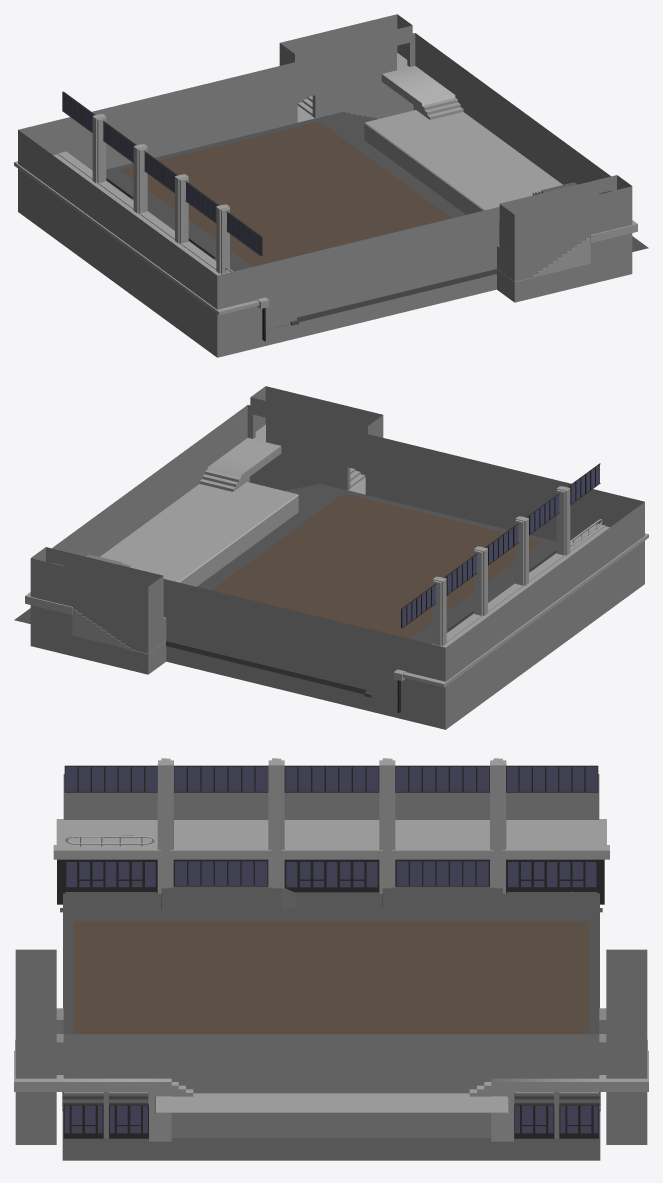
Rendered from RefInicial.fbx.
3 views of the same model, one above another, from view 1: azimuth 30°, elevation 25°; view 2: azimuth 150°, elevation 25°; view 3: azimuth 270°, elevation 25° (orthographic). The views are drawn at different scales.
Visible parts, largest first — view 1: Pared1, Piso1, Escenario, PisoAlt (×2), Piso2do, ColumnaH, Pilar3, Pilar4, EscalerasBaj, Pilar2, Pilar1, Ventana_1 (+5 smaller); view 2: Pared1, Piso1, Escenario, PisoAlt (×2), Piso2do, ColumnaH, Pilar1, Pilar4, EscalerasBaj, Pilar2, Pilar3, Ventana_5 (+5 smaller); view 3: Piso1, Pared1, Escaleras, Piso2do, ColumnaH, Escenario, PisoAlt (×2), PuertaDoble_1 (×5), PuertaDoble_2 (×5), Ventana_3, Ventana_4, Ventana_2 (+9 smaller).
Boxes of the visible parts, x1,y1,x2,y2 form: Pared1: (18, 14, 632, 357); Piso1: (106, 111, 497, 331); Escenario: (364, 110, 562, 214); PisoAlt (×2): (381, 52, 637, 243); Piso2do: (14, 154, 259, 315); ColumnaH: (58, 151, 269, 308); Pilar3: (133, 144, 147, 213); Pilar4: (92, 114, 106, 183); EscalerasBaj: (497, 237, 590, 281); Pilar2: (175, 174, 188, 243); Pilar1: (216, 204, 229, 273); Ventana_1: (226, 211, 262, 256); Pared1: (30, 386, 644, 729); Piso1: (166, 483, 556, 703); Escenario: (100, 482, 298, 586); PisoAlt (×2): (25, 424, 281, 615); Piso2do: (403, 526, 648, 687); ColumnaH: (393, 523, 605, 680); Pilar1: (556, 486, 570, 555); Pilar4: (432, 576, 446, 645); EscalerasBaj: (72, 609, 165, 653); Pilar2: (515, 516, 528, 585); Pilar3: (474, 546, 487, 615); Ventana_5: (401, 583, 436, 628); Piso1: (63, 886, 599, 1034); Pared1: (15, 774, 647, 1144); Escaleras: (62, 1092, 600, 1160); Piso2do: (56, 819, 606, 844); ColumnaH: (53, 845, 609, 859); Escenario: (154, 1093, 508, 1113); PisoAlt (×2): (14, 1050, 648, 1141); PuertaDoble_1 (×5): (115, 861, 592, 1138); PuertaDoble_2 (×5): (70, 861, 547, 1138); Ventana_3: (284, 765, 379, 792); Ventana_4: (395, 765, 489, 792); Ventana_2: (174, 765, 268, 792).
Bounding box in the file's own units: 1335 × 352 × 1263.
